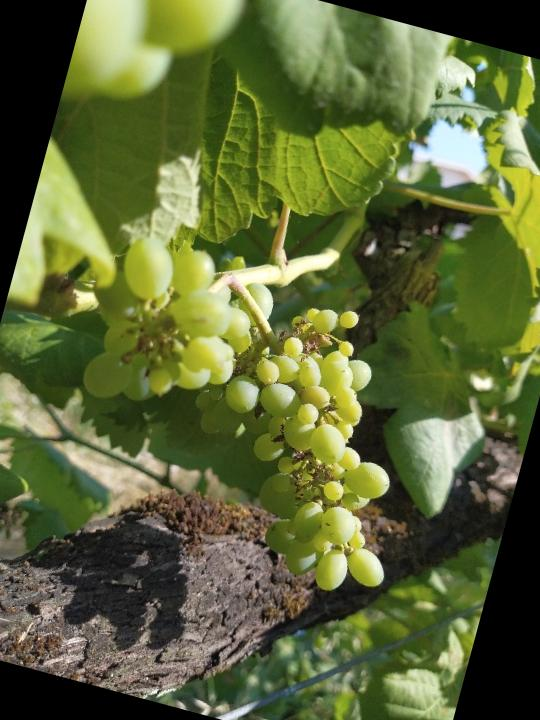grape: (156, 274, 454, 607), (65, 222, 274, 439)
